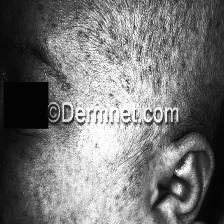Non-Cancerous Skin Condition: (43, 0, 219, 89), (19, 148, 147, 224)
